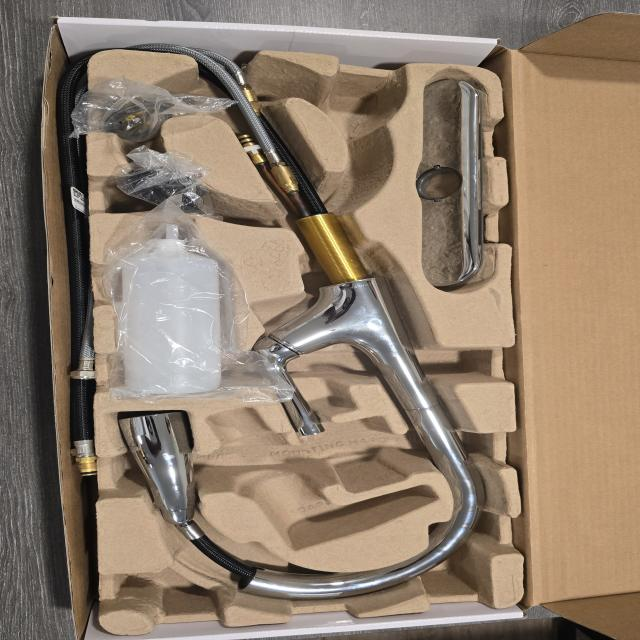1: (118, 56, 484, 599)
2m: (208, 407, 438, 552)
3: (118, 219, 224, 397)
4: (417, 78, 480, 289)
5m: (329, 83, 394, 124)
6: (71, 75, 237, 142)
7: (110, 147, 215, 219)
